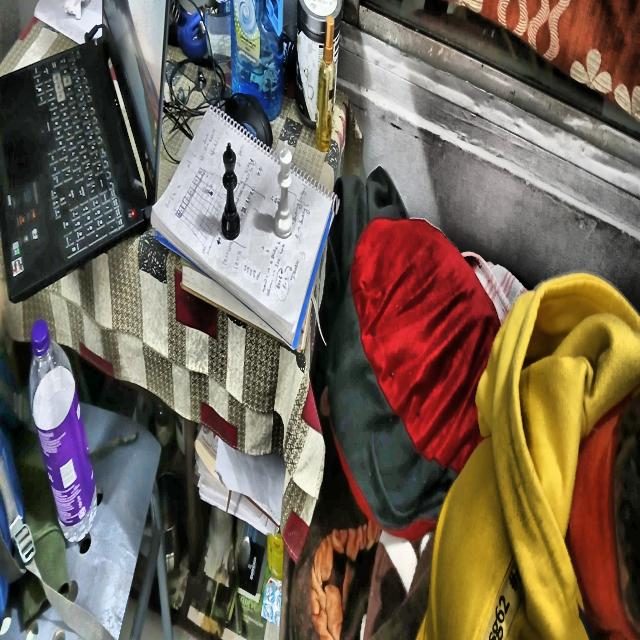BlackKing: (221, 142, 241, 240)
WhiteKing: (274, 140, 293, 238)
